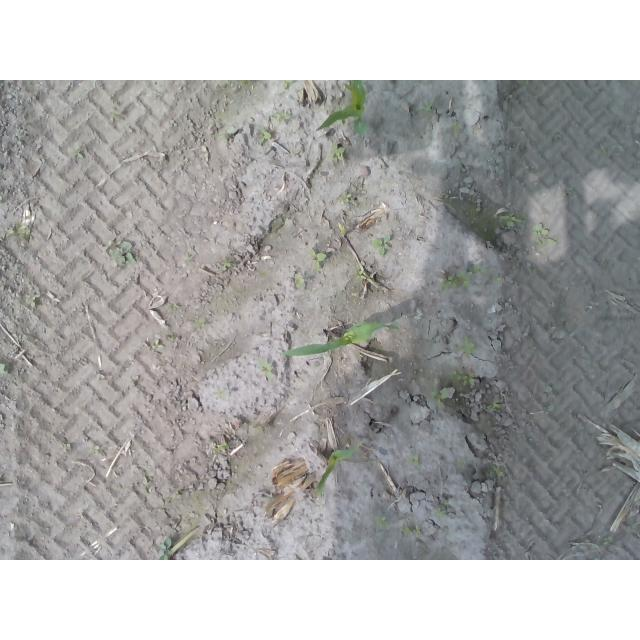Maize: (286, 319, 401, 358), (317, 81, 370, 140), (312, 447, 357, 501)
Weeds: (439, 266, 484, 290), (110, 239, 137, 265), (531, 222, 557, 246), (447, 369, 477, 388), (307, 248, 329, 272), (456, 335, 480, 357), (370, 234, 392, 257), (257, 359, 276, 378), (158, 537, 172, 560), (497, 213, 519, 227), (488, 463, 505, 480), (329, 141, 345, 159), (257, 127, 273, 145), (222, 128, 238, 145), (7, 223, 28, 235), (273, 110, 290, 123), (374, 516, 391, 529), (431, 389, 449, 401), (401, 527, 421, 537), (150, 337, 164, 351), (25, 294, 40, 307), (220, 257, 233, 271), (295, 273, 306, 288), (280, 80, 296, 90), (354, 269, 367, 281), (340, 190, 352, 203), (486, 403, 498, 414), (217, 441, 230, 451), (409, 455, 420, 466), (89, 445, 100, 455)
